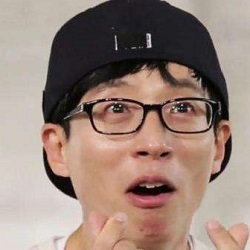unmask: (60, 67, 215, 243)
